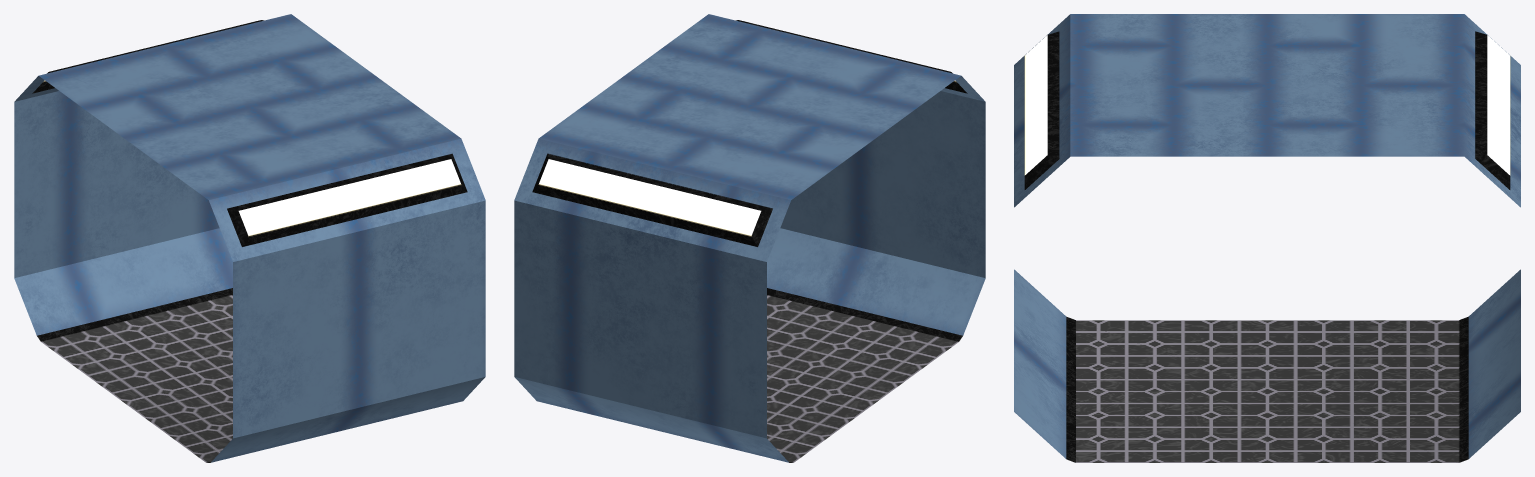
Rendered from Hall - Default_Light - Texture.gltf.
3 views of the same model, side by side, from view 1: azimuth 30°, elevation 25°; view 2: azimuth 150°, elevation 25°; view 3: azimuth 270°, elevation 25° (orthographic). The views are drawn at different scales.
Visible parts, largest first — view 1: Default_L; view 2: Default_L; view 3: Default_L.
Boxes of the visible parts, bbox=[...] form: Default_L: bbox=[14, 14, 485, 462]; Default_L: bbox=[514, 14, 985, 462]; Default_L: bbox=[1014, 14, 1520, 462].
Bounding box in the file's own units: 2 × 2 × 3.
1 material, 1 textured.
